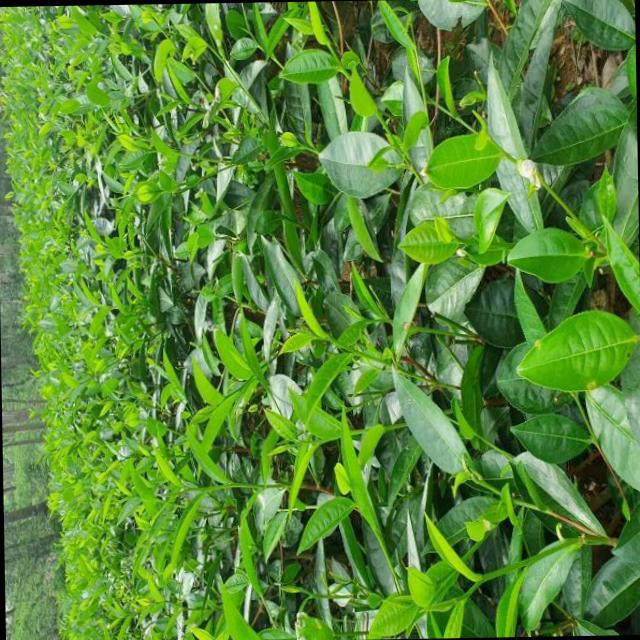Stem: (477, 573, 485, 580), (325, 334, 332, 341), (188, 486, 192, 490), (299, 439, 304, 442)
